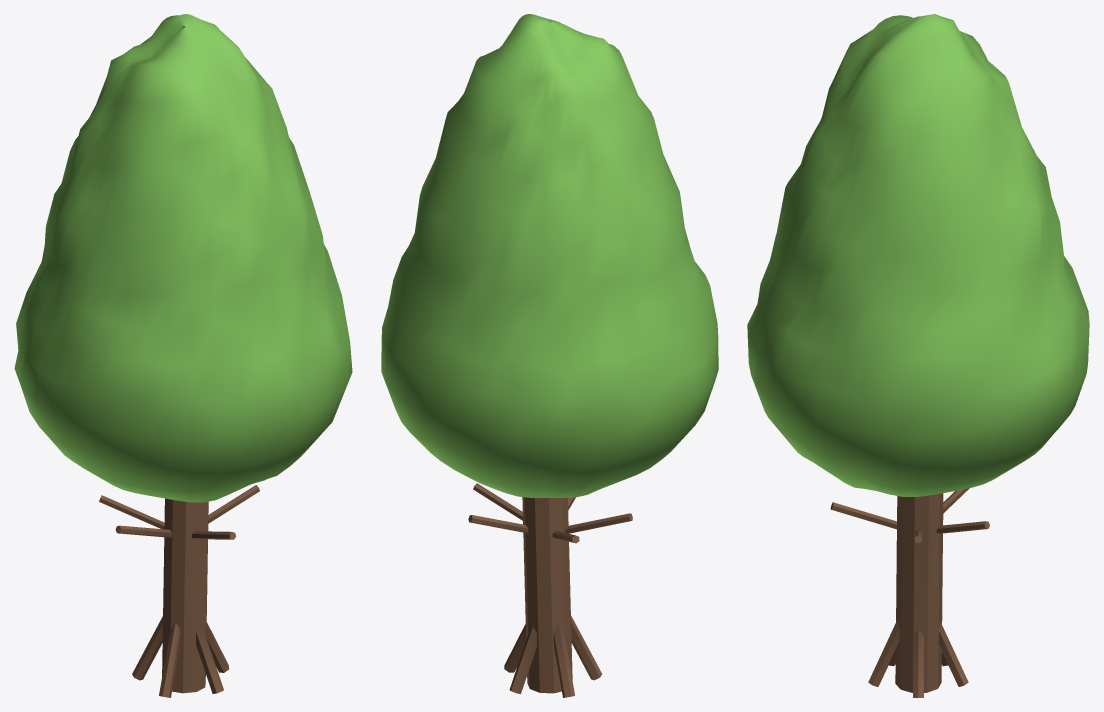
File: pine.glb
3 views of the same model, side by side, from view 1: azimuth 30°, elevation 25°; view 2: azimuth 150°, elevation 25°; view 3: azimuth 270°, elevation 25° (orthographic).
Parts seen in each view (by area): view 1: rounded canopy, trunk; view 2: rounded canopy, trunk; view 3: rounded canopy, trunk.
Boxes of the visible parts, x1,y1,x2,y2 form: rounded canopy: [14, 14, 352, 502]; trunk: [99, 485, 259, 697]; rounded canopy: [381, 14, 718, 497]; trunk: [468, 483, 632, 697]; rounded canopy: [747, 14, 1089, 496]; trunk: [830, 488, 989, 697].
Bounding box in the file's own units: 1.07 × 2.31 × 1.07.
